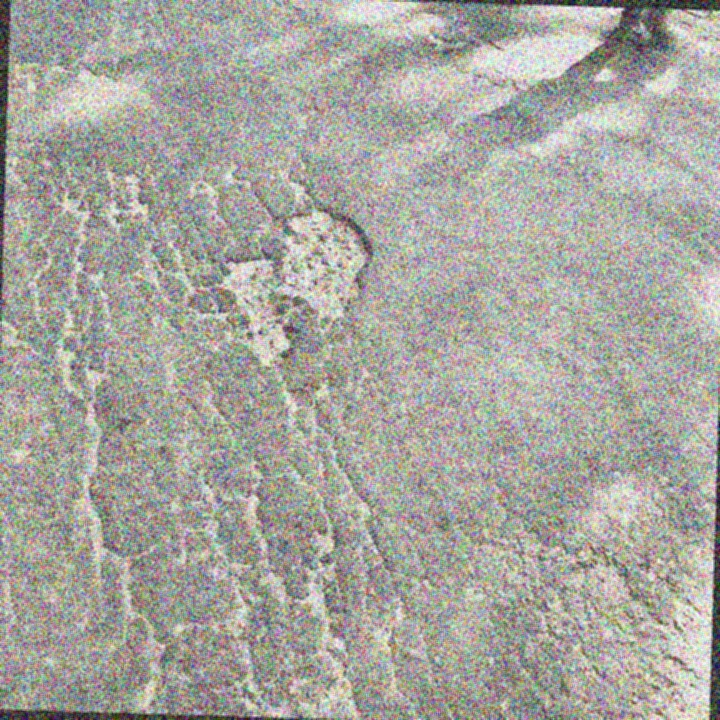pothole: (212, 197, 375, 372)
